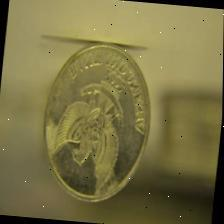coin_50_1999: (40, 40, 154, 206)
